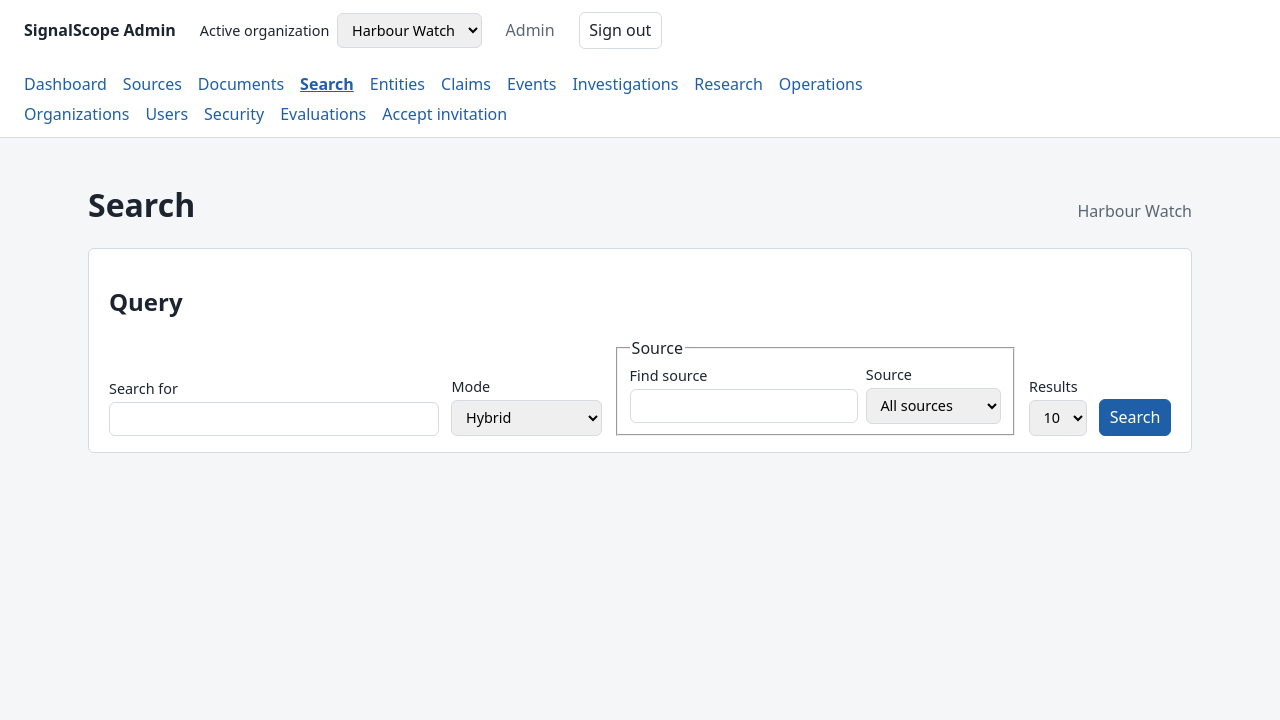
Test: search workspace › explains a model that is not enabled
Type "harbour" into the field labelled "Search for" at (274, 419), box top-left (109, 402), bottom-right (439, 436)
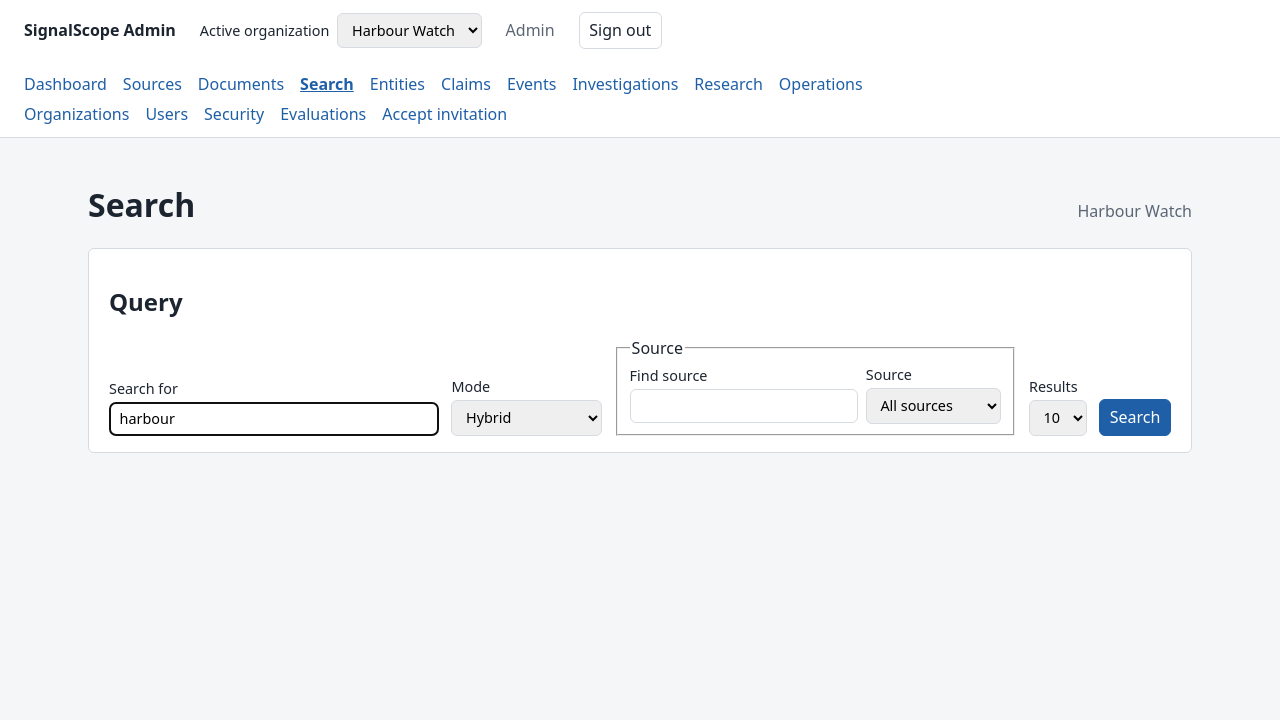
Select "Semantic" in the dropdown labelled "Mode" at (526, 418), box top-left (451, 400), bottom-right (602, 436)
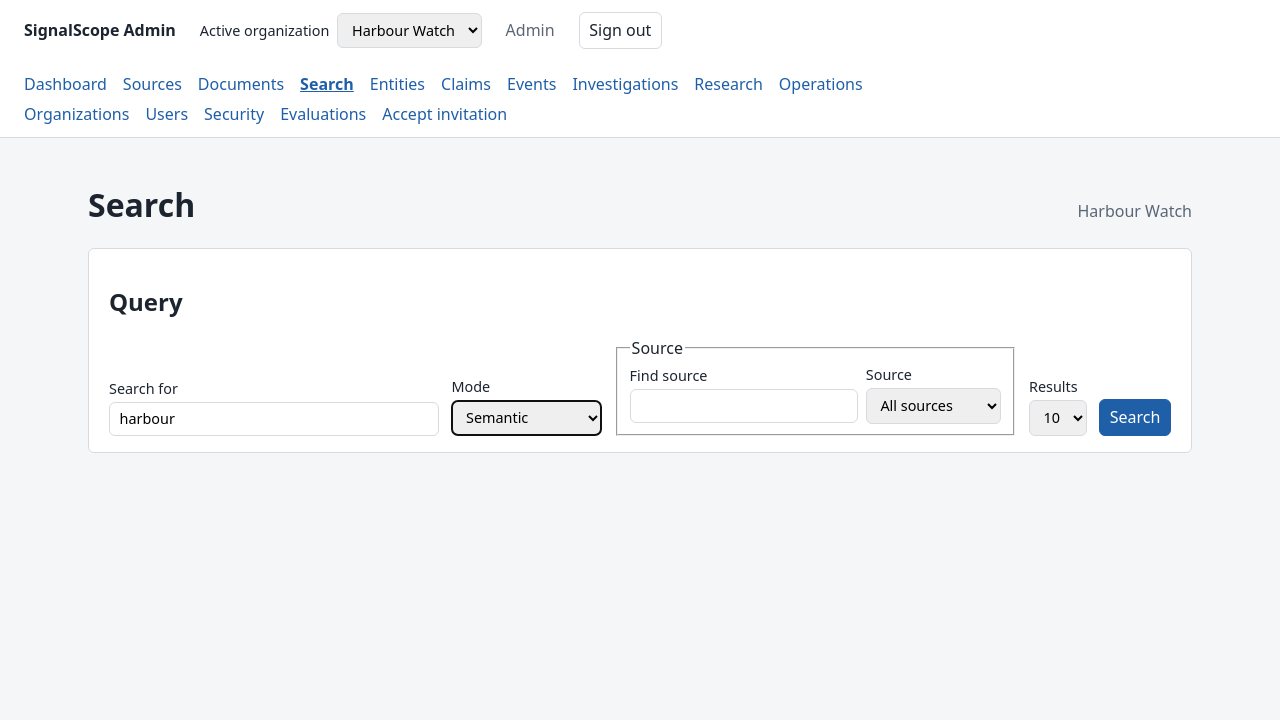
Click the button "Search" at (1135, 418), box top-left (1099, 399), bottom-right (1171, 436)
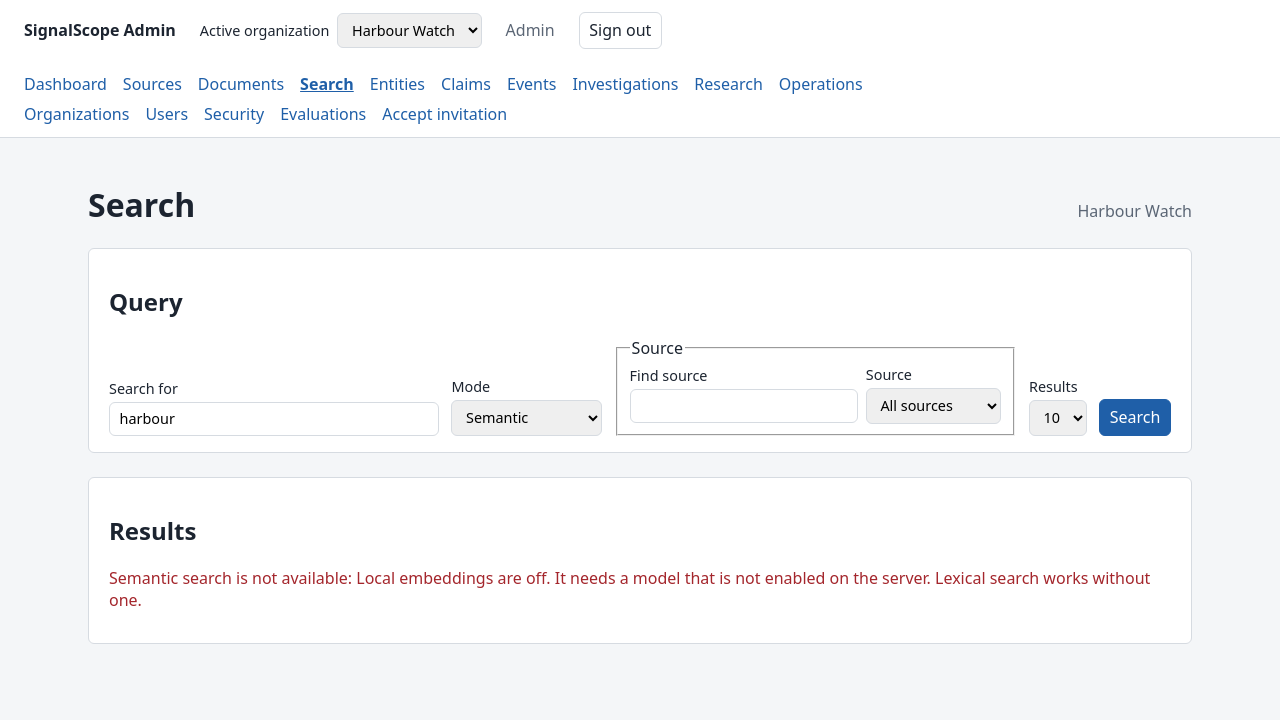
Expected: the message shows "Semantic search is not available: Local embeddings are off.", top-left (109, 567), bottom-right (1150, 611)
Expected: the message shows "Lexical search works without one.", top-left (109, 567), bottom-right (1150, 611)
